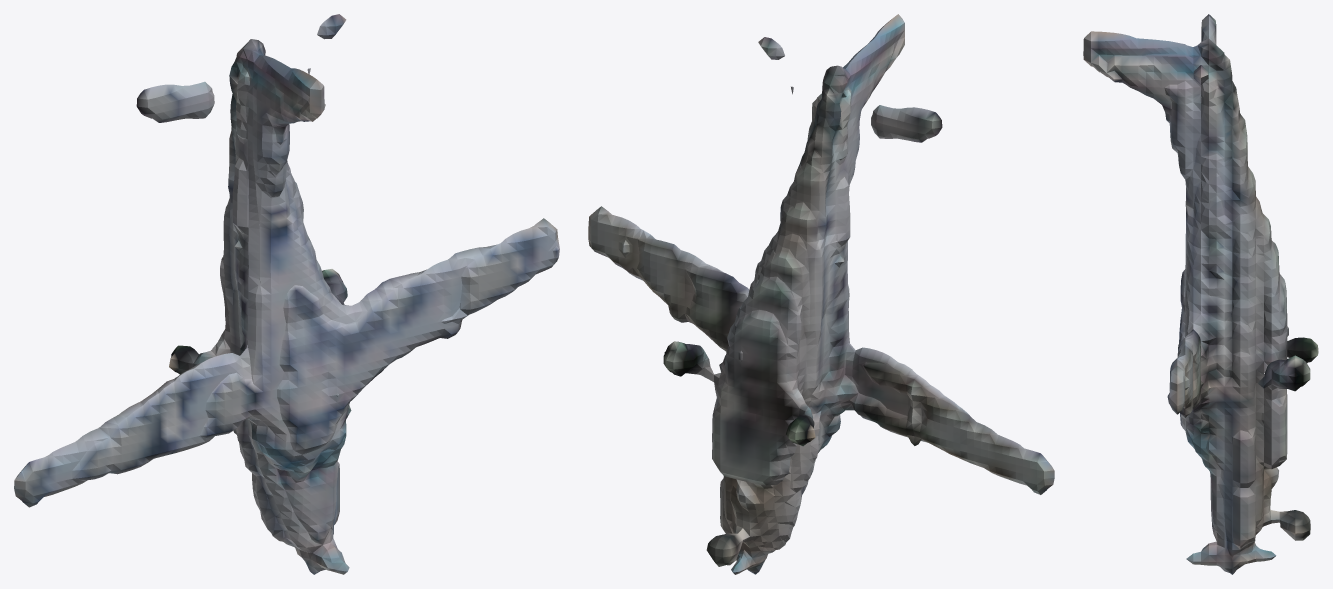
File: 000002_plane_cessna caravan_flying_10240_128.glb
3 views of the same model, side by side, from view 1: azimuth 30°, elevation 25°; view 2: azimuth 150°, elevation 25°; view 3: azimuth 270°, elevation 25° (orthographic). The views are drawn at different scales.
Parts seen in each view (by area): view 1: world; view 2: world; view 3: world.
Part boxes in pixels (x1,y1,x2,y2): world: [14, 14, 559, 574]; world: [588, 14, 1054, 574]; world: [1083, 14, 1318, 574].
Size of the model in its own units: 0.9437 by 0.9799 by 0.4099.
